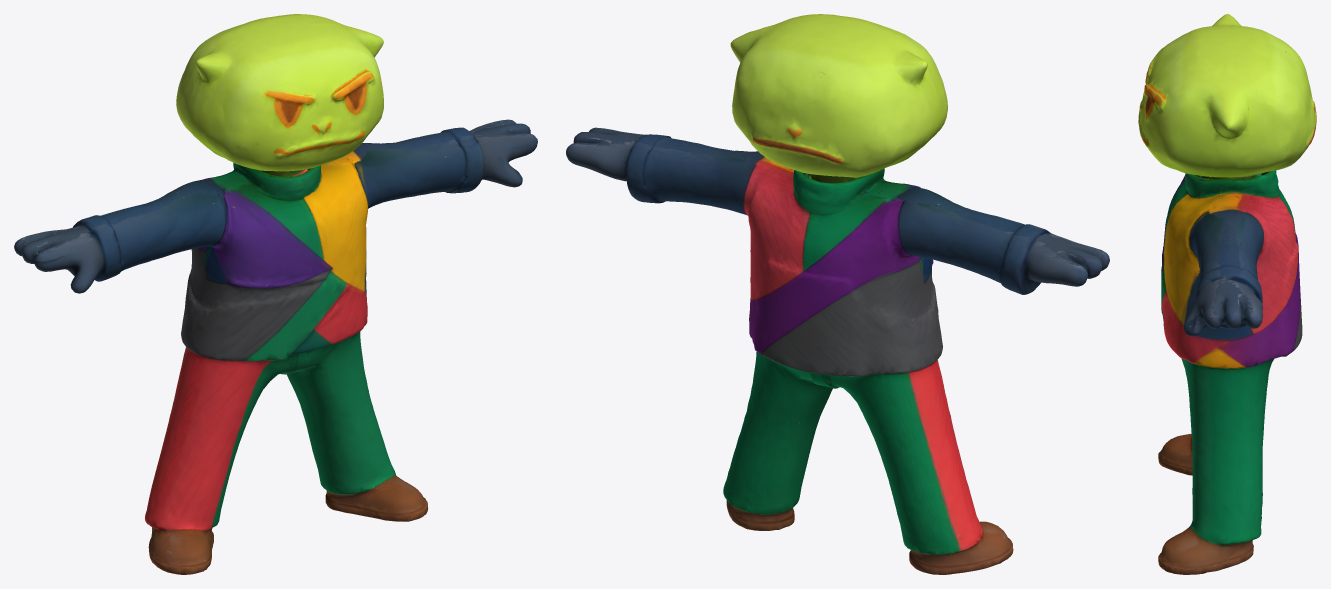
The picture shows the model from 3 angles, left to right: view 1: azimuth 30°, elevation 25°; view 2: azimuth 150°, elevation 25°; view 3: azimuth 270°, elevation 25°; orthographic projection. The views are drawn at different scales.
Bounding box in the file's own units: 1.92 × 1.77 × 0.6013.
1 material, 1 textured.
